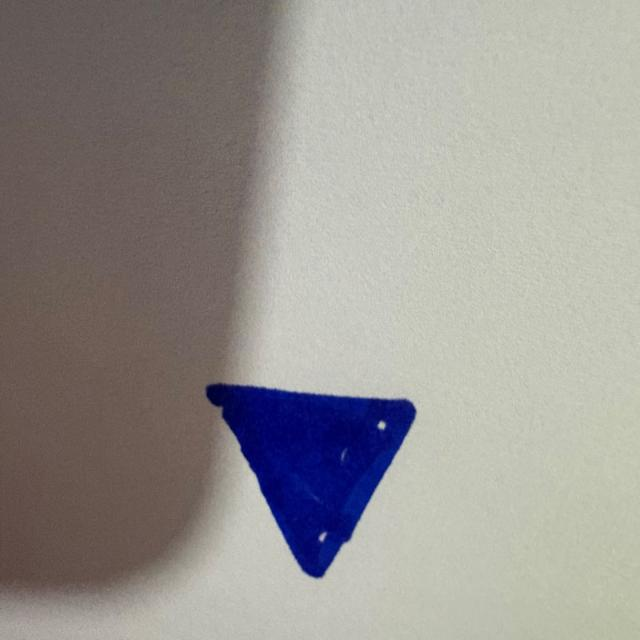Triangle: (206, 383, 416, 578)
